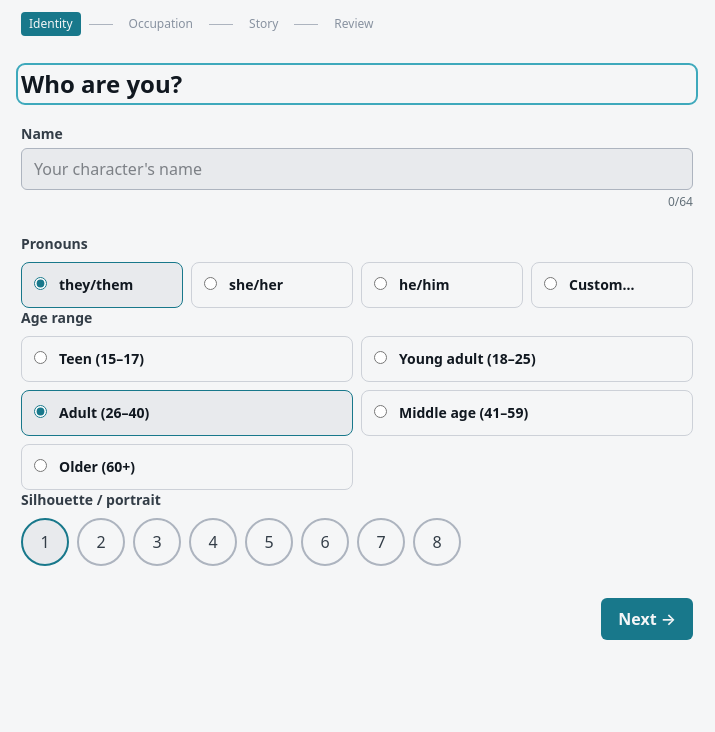
Scenario: CharacterCreation – step navigation › advances to Occupation step after valid identity
Type "Sam" into the field labelled "Name" at (357, 169), box [21,148,693,190]
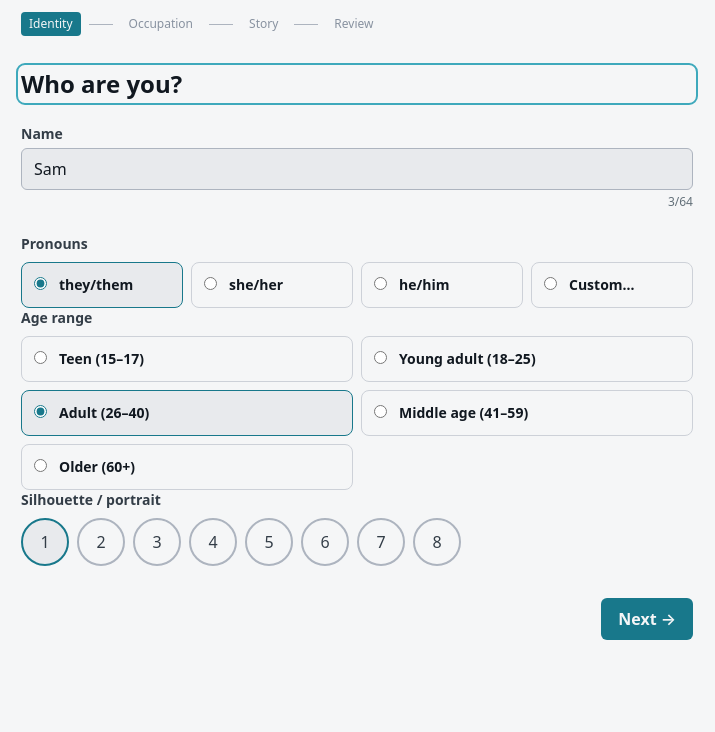
Click the button "Next →" at (647, 619), box [601,598,693,640]
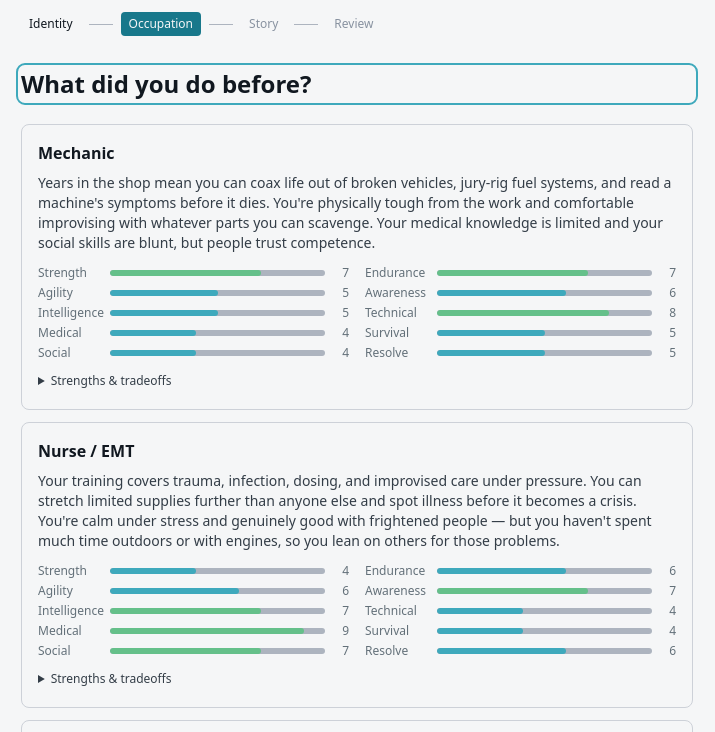
Expected: the heading "What did you do before?" is shown, [21,67,312,100]
